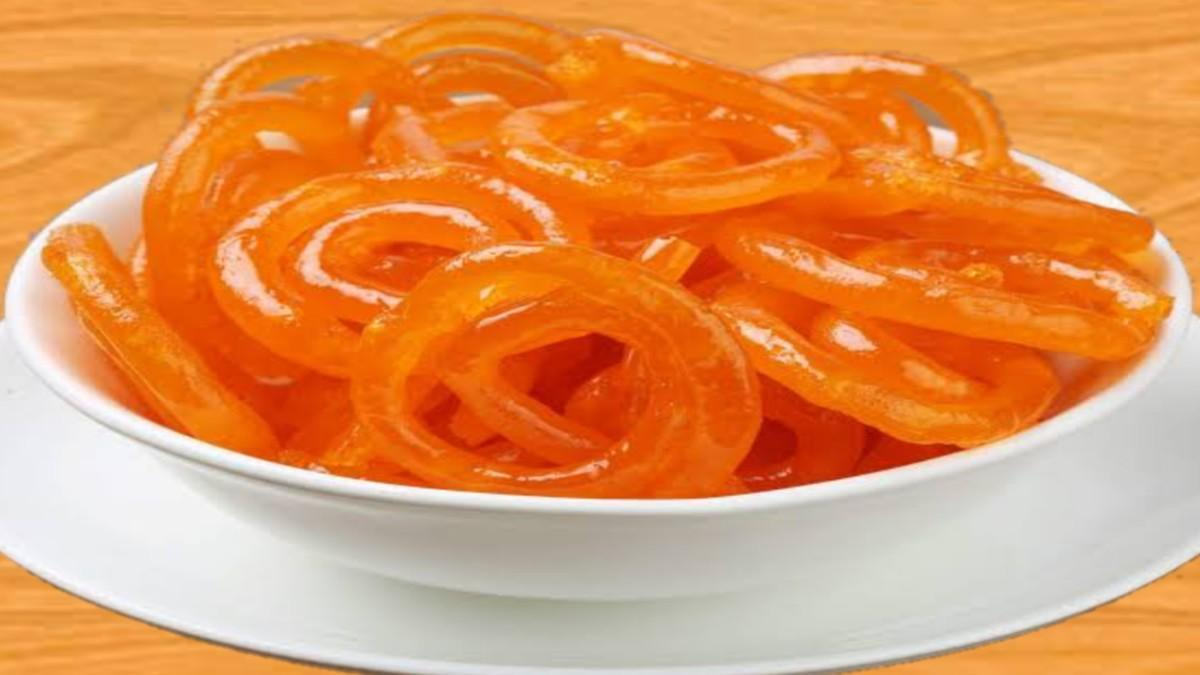jalebi: (56, 11, 1098, 522)
